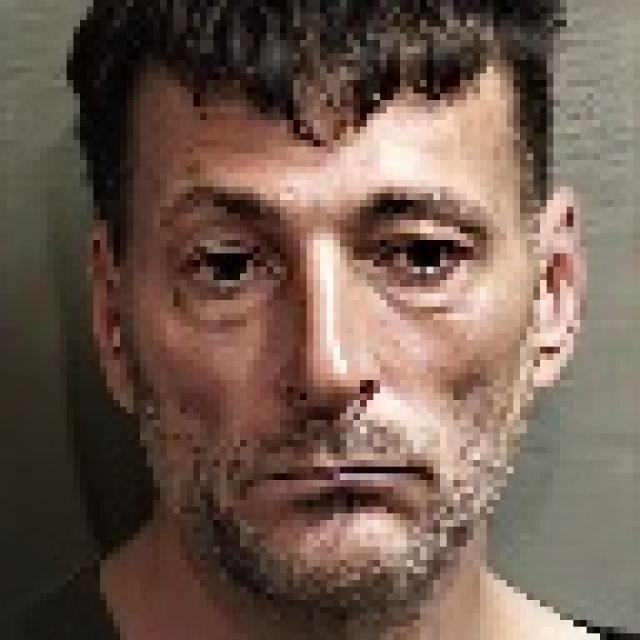sad: (117, 1, 586, 630)
